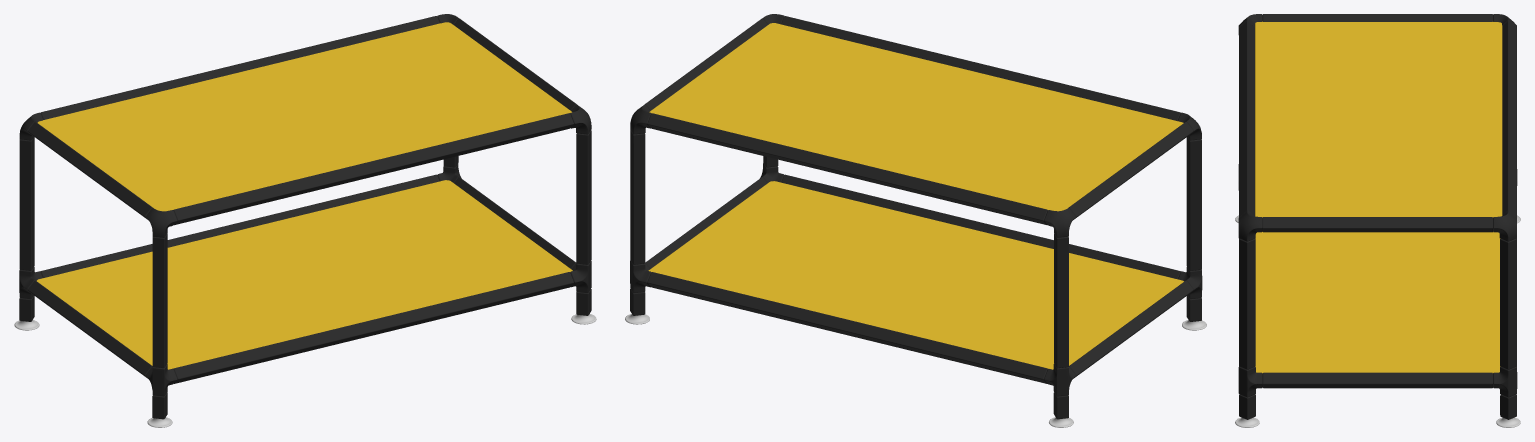
3 views of the same model, side by side, from view 1: azimuth 30°, elevation 25°; view 2: azimuth 150°, elevation 25°; view 3: azimuth 270°, elevation 25° (orthographic).
Visible parts, largest first — view 1: 729x374x229; view 2: 729x374x229; view 3: 729x374x229.
Part boxes in pixels (bbox=[...]): 729x374x229: bbox=[14, 14, 596, 427]; 729x374x229: bbox=[625, 14, 1206, 427]; 729x374x229: bbox=[1235, 14, 1520, 427].
Size of the model in its own units: 0.8189 by 0.3682 by 0.4633.
